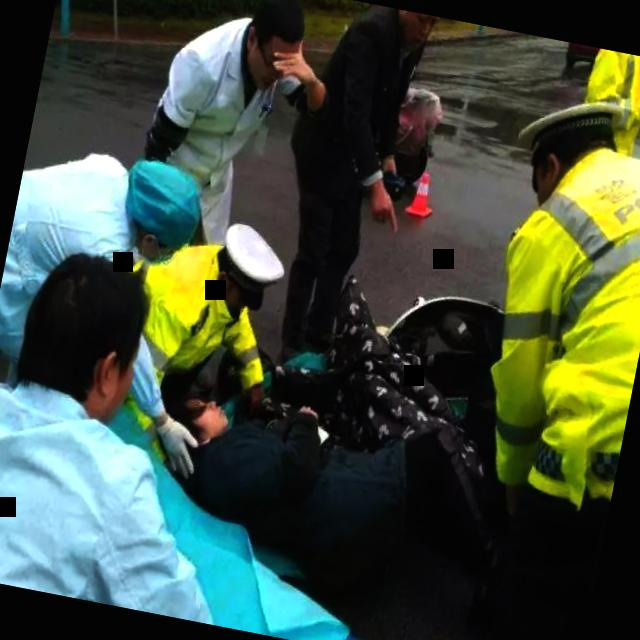Fall-Detected: (141, 350, 557, 630)
